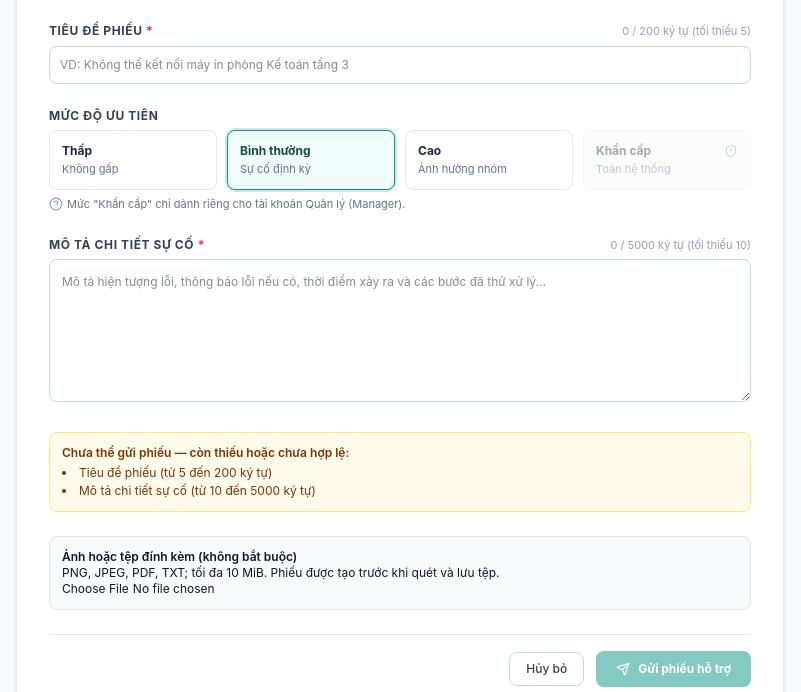
Test case: CreateTicketPage Component › validates minimum lengths on submit
(page scrolled)
Click the button "Gửi phiếu hỗ trợ". click: click(674, 669)
box: x1=596 y1=651 x2=751 y2=687
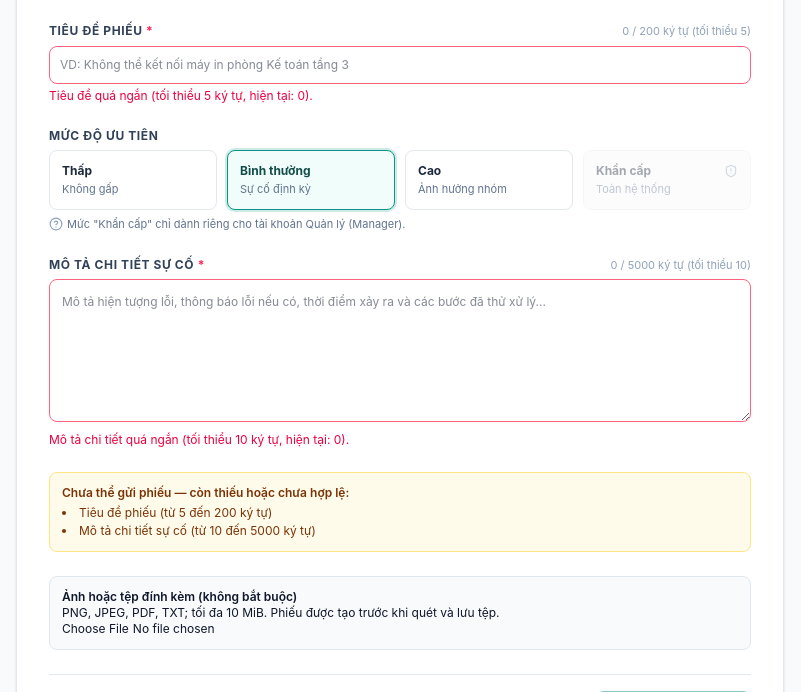
Check: the text "Tiêu đề quá ngắn (tối thiểu 5 ký tự, hiện tại: 0)." is shown, box x1=49 y1=88 x2=313 y2=102
Check: the text "Mô tả chi tiết quá ngắn (tối thiểu 10 ký tự, hiện tại: 0)." is shown, box x1=49 y1=432 x2=349 y2=447
